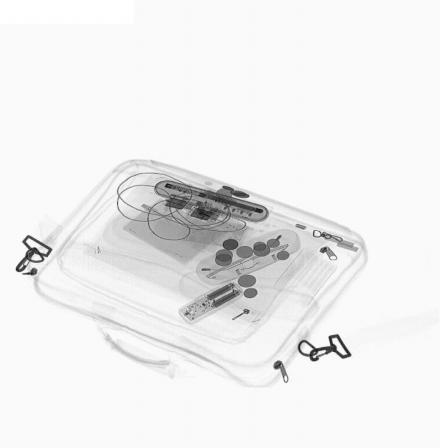Lighter: (186, 205, 230, 228)
